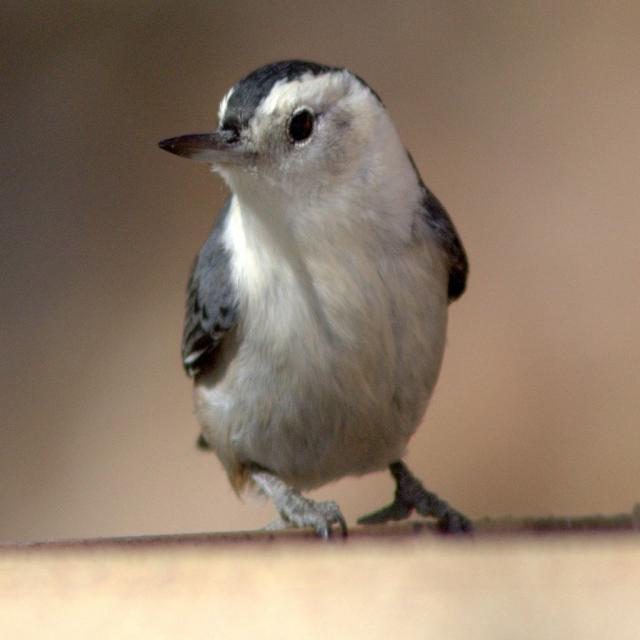bird: (146, 57, 486, 539)
